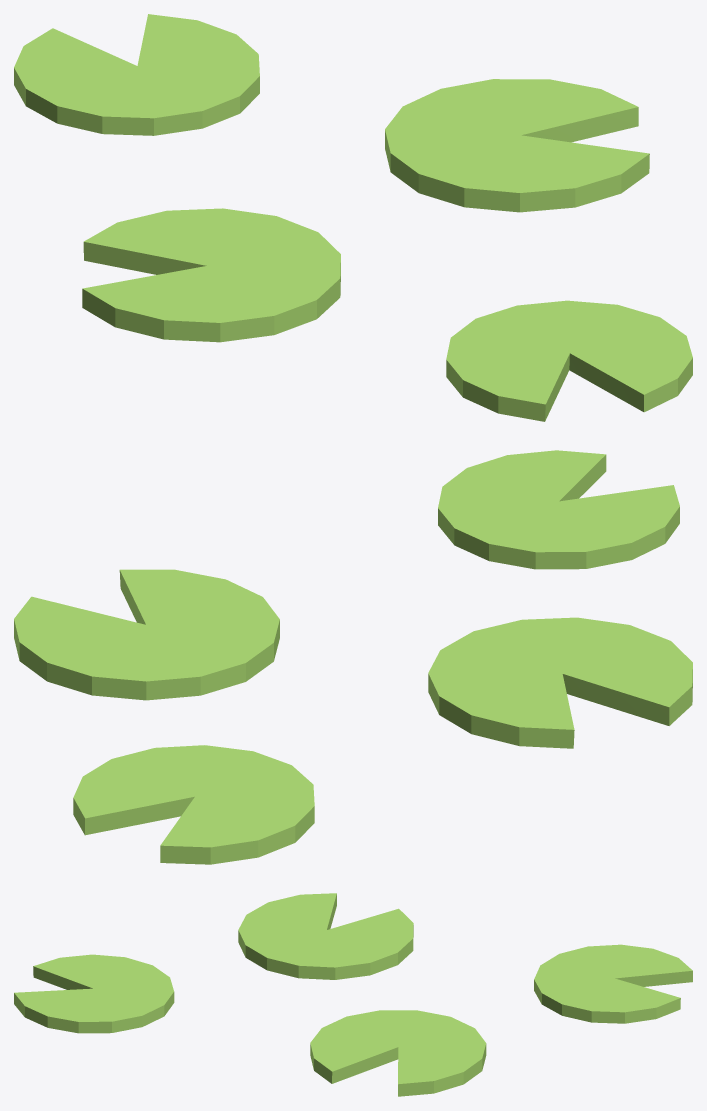
The model's file is foglie loto 7.fbx.
3 views of the same model, one above another, from view 1: azimuth 30°, elevation 25°; view 2: azimuth 150°, elevation 25°; view 3: azimuth 270°, elevation 25° (orthographic). The views are drawn at different scales.
Parts seen in each view (by area): view 1: Cylinder.011; view 2: Cylinder.011; view 3: Cylinder.011.
Boxes of the visible parts, bbox=[...] form: Cylinder.011: bbox=[14, 14, 692, 421]; Cylinder.011: bbox=[14, 450, 692, 864]; Cylinder.011: bbox=[14, 893, 692, 1096].
Bounding box in the file's own units: 99.94 × 3.07 × 150.
